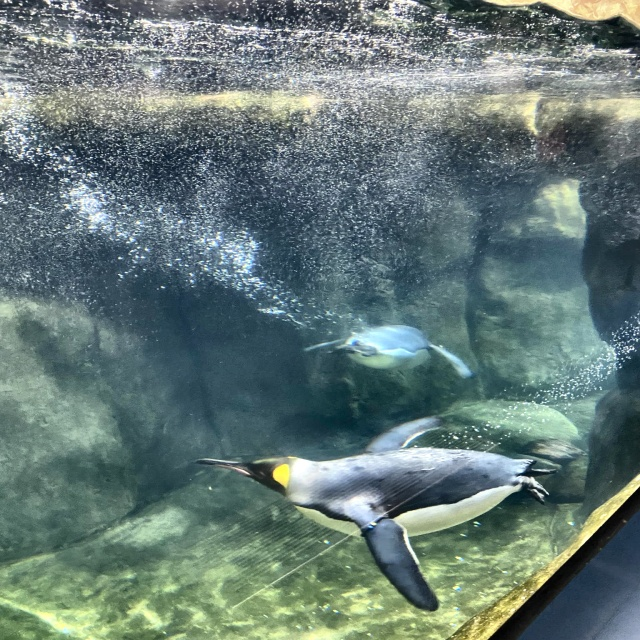penguin: (191, 416, 560, 612), (304, 324, 472, 385)
